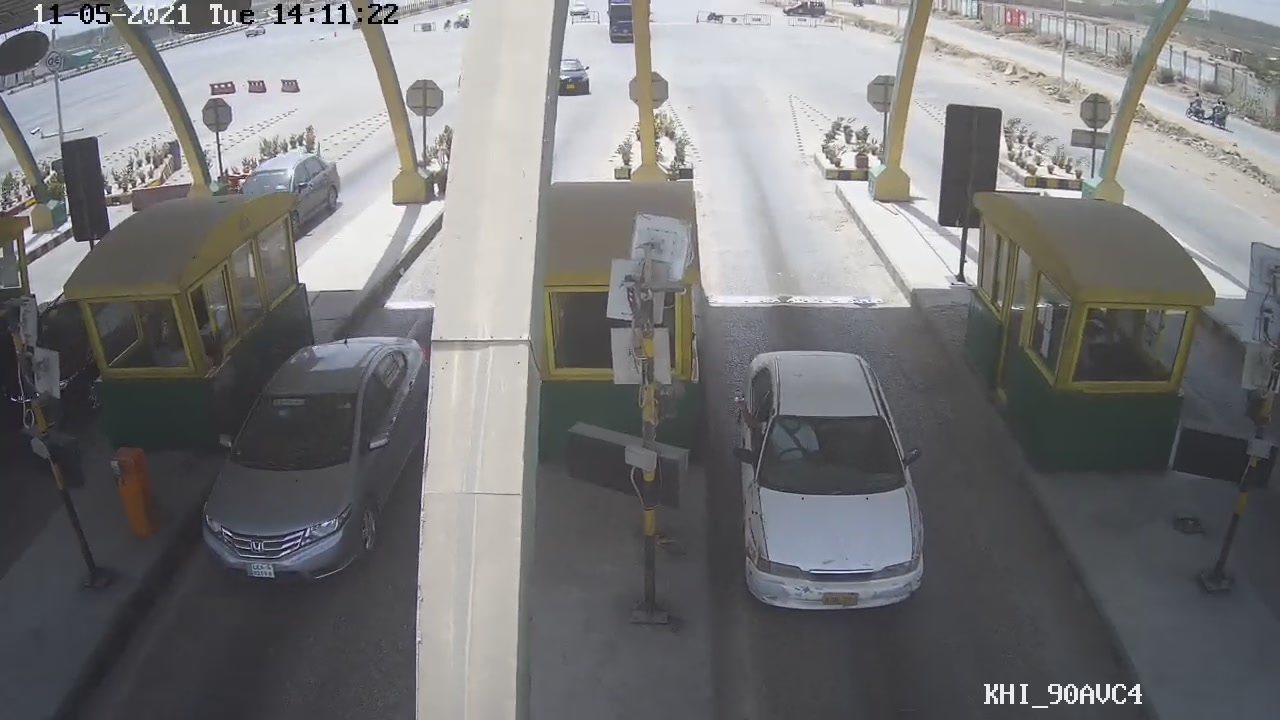F1: (720, 329, 940, 624)
